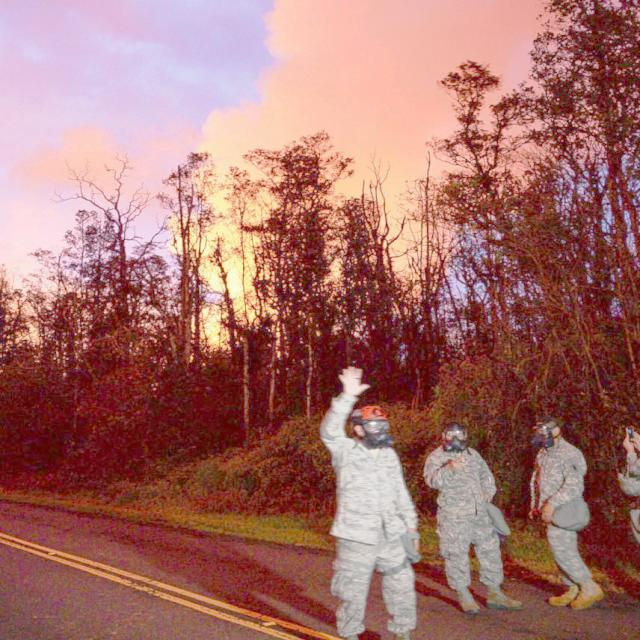asap: (173, 1, 640, 365)
